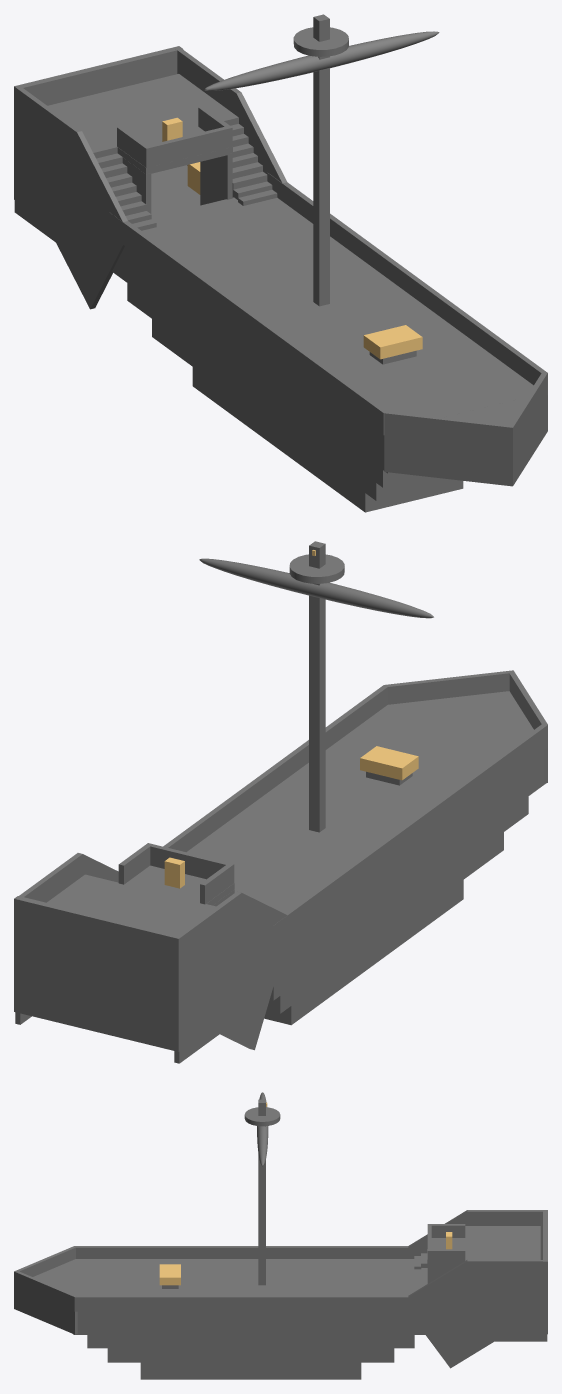
Rendered from Ship.fbx.
3 renders of one model, top to bottom at view 1: azimuth 30°, elevation 25°; view 2: azimuth 150°, elevation 25°; view 3: azimuth 270°, elevation 25°, orthographic. The views are drawn at different scales.
Parts seen in each view (by area): view 1: Cube, Cube__5_, Cube__09_, Railing, Cube__16_, Cube__18_, Railing__1_, Cube__1_, Cube__2_, Cube__3_, Cube__7_, Cube__4_ (+13 smaller); view 2: Cube, Cube__4_, Railing, Cube__5_, Cube__16_, Cube__1_, Railing__1_, Cube__18_, Cube__7_, Cube__2_, Cube__3_, Sphere (+11 smaller); view 3: Cube, Cube__6_, Cube__07_, Railing__1_, Cube__1_, Railing, Cube__2_, Cube__3_, Cube__08_, Cube__18_, Cube__16_, Cube__7_ (+10 smaller).
Part boxes in pixels (<box>): Cube: <box>112,197,533,473</box>; Cube__5_: <box>38,131,127,309</box>; Cube__09_: <box>384,411,511,485</box>; Railing: <box>108,211,386,435</box>; Cube__16_: <box>14,85,81,255</box>; Cube__18_: <box>47,74,232,148</box>; Railing__1_: <box>267,172,547,394</box>; Cube__1_: <box>127,283,427,487</box>; Cube__2_: <box>152,319,459,500</box>; Cube__3_: <box>192,367,463,512</box>; Cube__7_: <box>313,14,329,306</box>; Cube__4_: <box>14,46,183,199</box>; Cube: <box>187,704,545,981</box>; Cube__4_: <box>14,896,179,1051</box>; Railing: <box>273,724,547,947</box>; Cube__5_: <box>203,891,287,1050</box>; Cube__16_: <box>174,892,241,1063</box>; Cube__1_: <box>269,796,528,1000</box>; Railing__1_: <box>163,685,387,852</box>; Cube__18_: <box>47,877,211,934</box>; Cube__7_: <box>309,541,325,832</box>; Cube__2_: <box>266,832,503,1013</box>; Cube__3_: <box>264,880,463,1025</box>; Sphere: <box>199,558,433,618</box>; Cube: <box>73,1259,427,1334</box>; Cube__6_: <box>401,1260,516,1368</box>; Cube__07_: <box>467,1260,547,1341</box>; Railing__1_: <box>74,1295,408,1311</box>; Cube__1_: <box>87,1335,414,1348</box>; Railing: <box>75,1246,427,1258</box>; Cube__2_: <box>107,1348,394,1362</box>; Cube__3_: <box>140,1362,361,1379</box>; Cube__08_: <box>14,1270,77,1334</box>; Cube__18_: <box>469,1226,540,1259</box>; Cube__16_: <box>467,1210,547,1259</box>; Cube__7_: <box>258,1099,265,1285</box>.
Bounding box in the file's own units: 1254 × 2093 × 3838.
